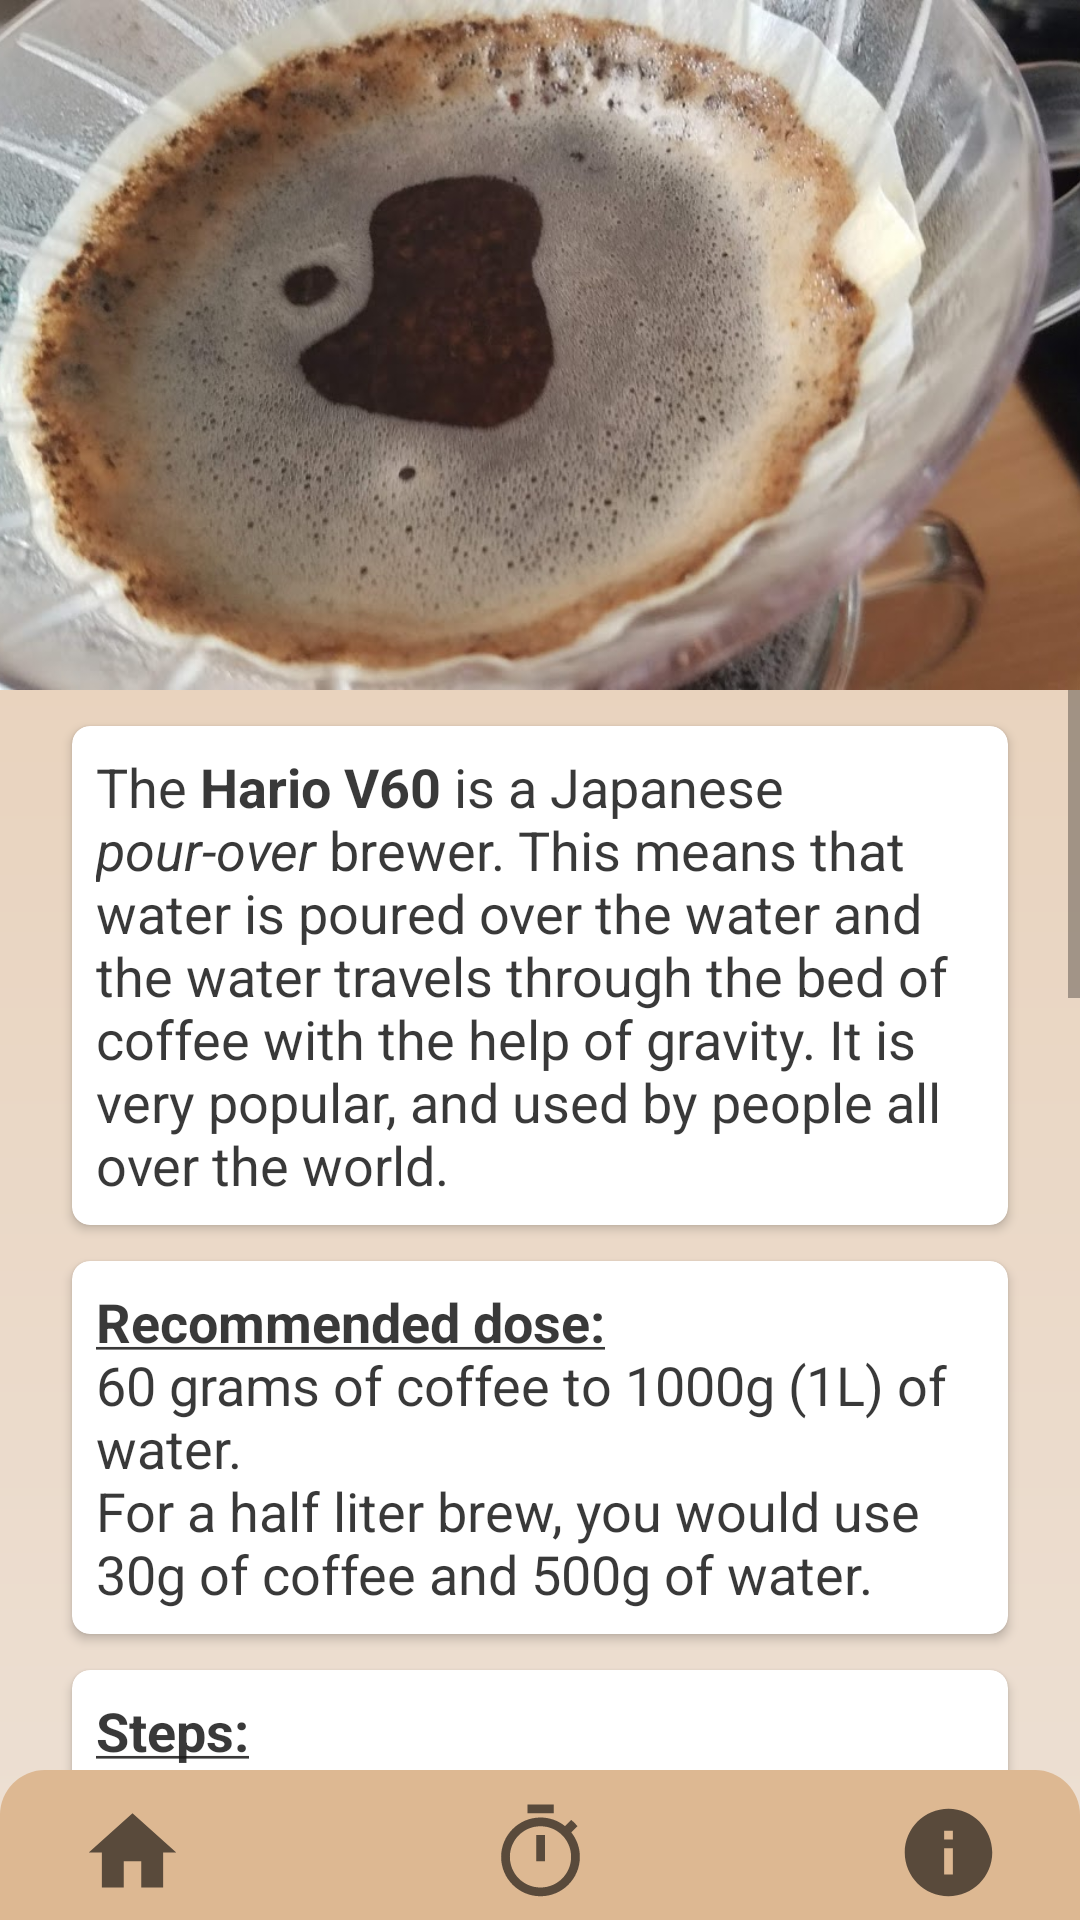

Screen size 1080*1920. Icon name, then its center in pixels as [x,y]:
home: [132,1850]
info: [948,1852]
Stopwatch: [540,1850]
